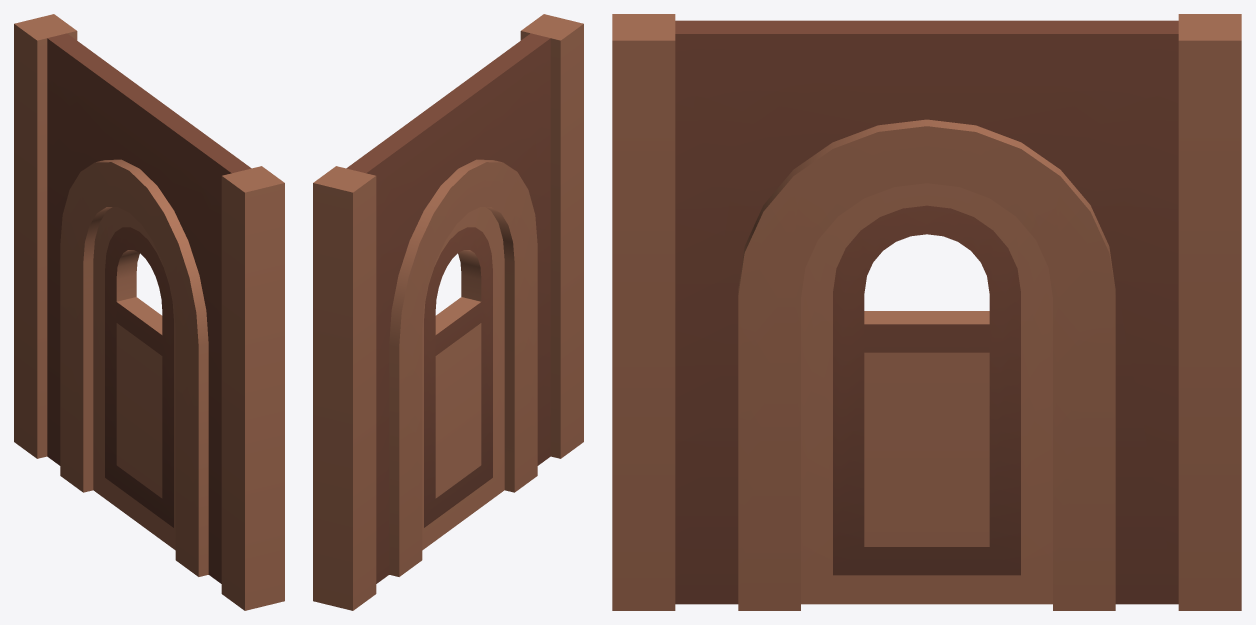
Rendered from town-wall-wood-door.glb.
The picture shows the model from 3 angles, left to right: view 1: azimuth 30°, elevation 25°; view 2: azimuth 150°, elevation 25°; view 3: azimuth 270°, elevation 25°; orthographic projection. The views are drawn at different scales.
Visible parts, largest first — view 1: town-wall-wood-door; view 2: town-wall-wood-door; view 3: town-wall-wood-door.
Boxes of the visible parts, x1=… form: town-wall-wood-door: x1=14, y1=14, x2=284, y2=610; town-wall-wood-door: x1=313, y1=14, x2=583, y2=610; town-wall-wood-door: x1=612, y1=14, x2=1241, y2=610.
Bounding box in the file's own units: 0.1 × 1 × 1.
